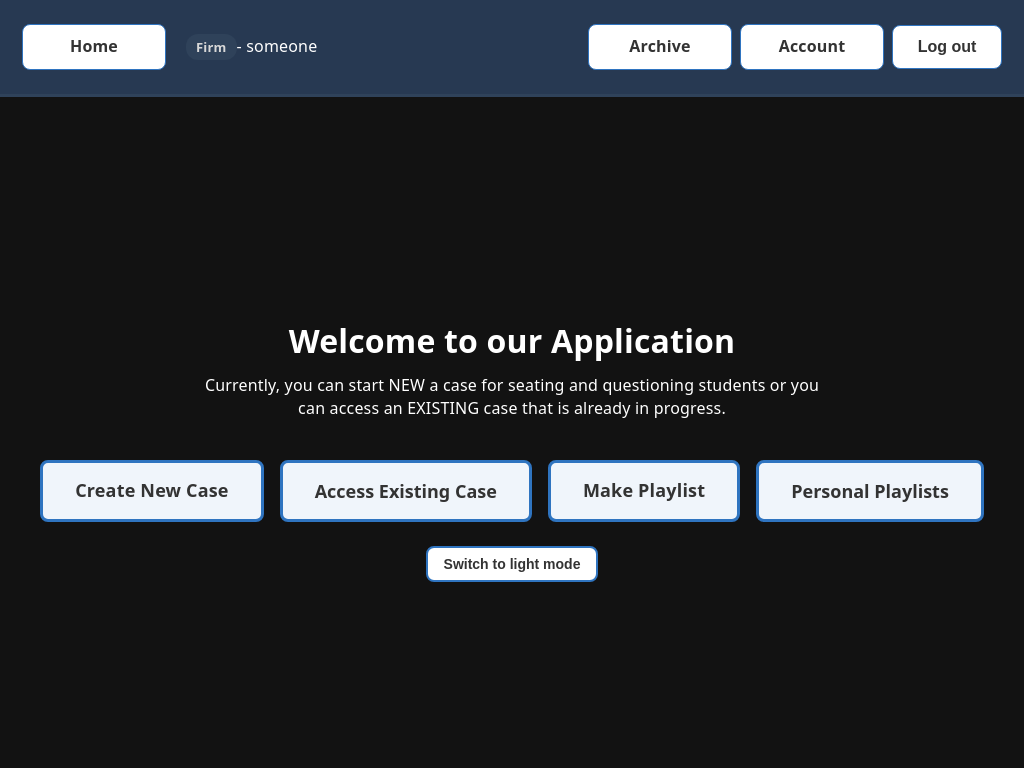
Scenario: DashboardScreen playlist edit and delete (spec 022) › keeps the warning open with the server message when the delete fails
Click the button "Personal Playlists": click(870, 491) [756,460,984,522]
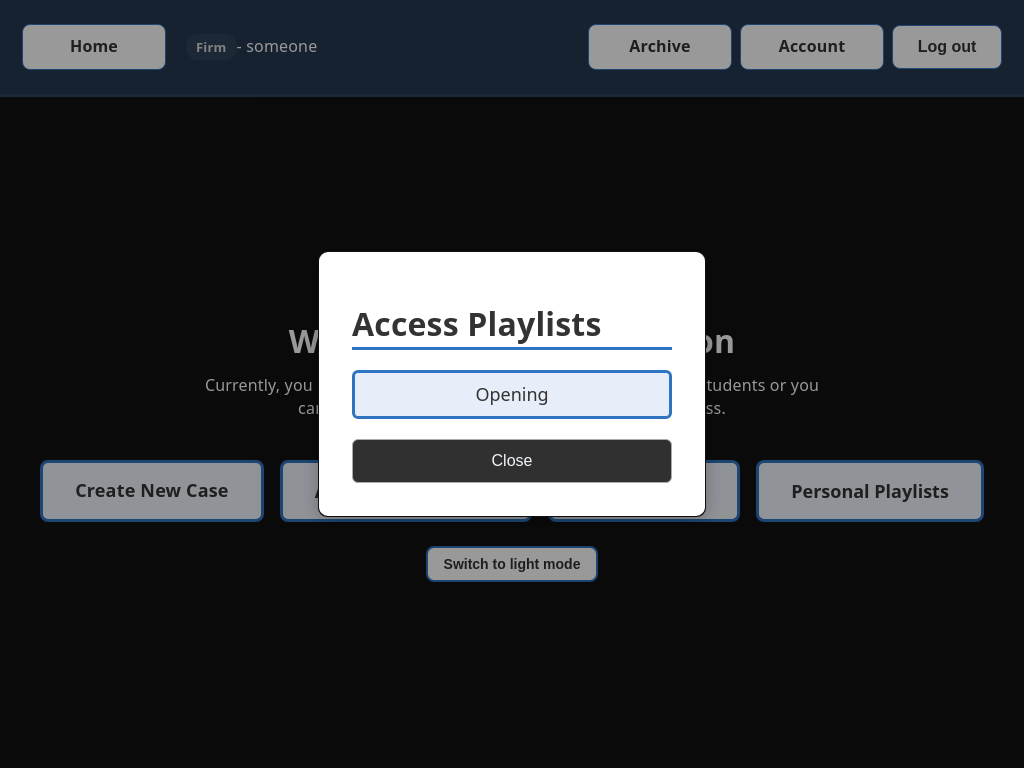
Click the button "Opening": click(512, 394) [352,370,672,419]
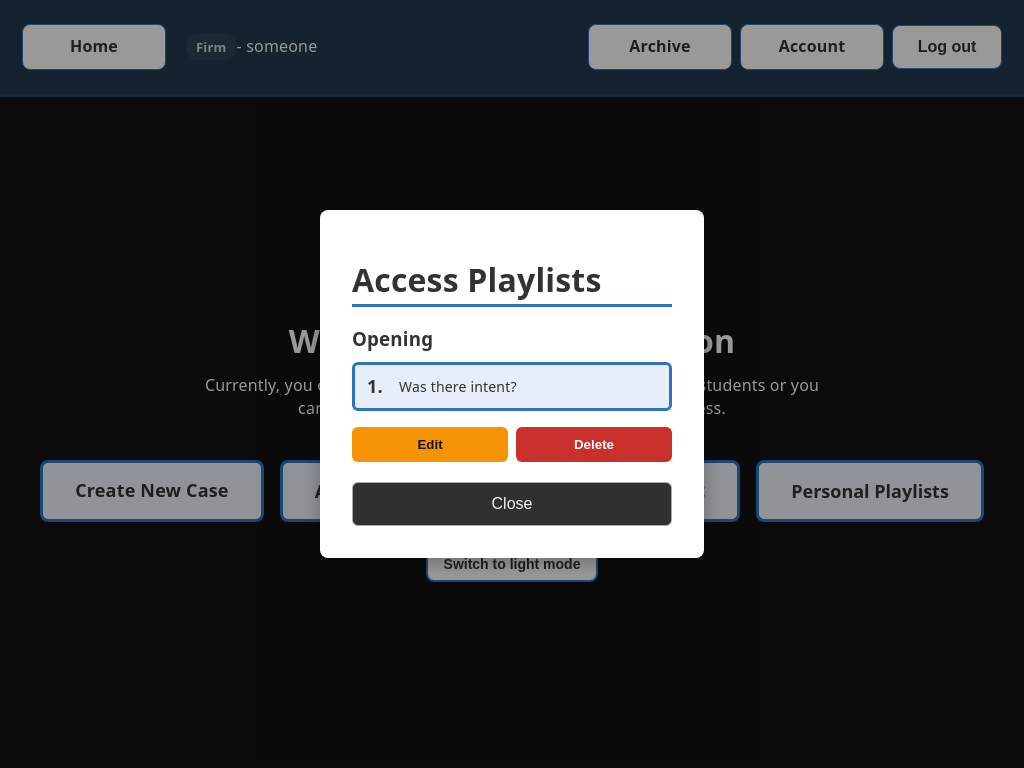
Expected: the text "Was there intent?" is shown, [399,377,517,396]
Click the button "Delete": click(594, 445) [516,427,672,462]
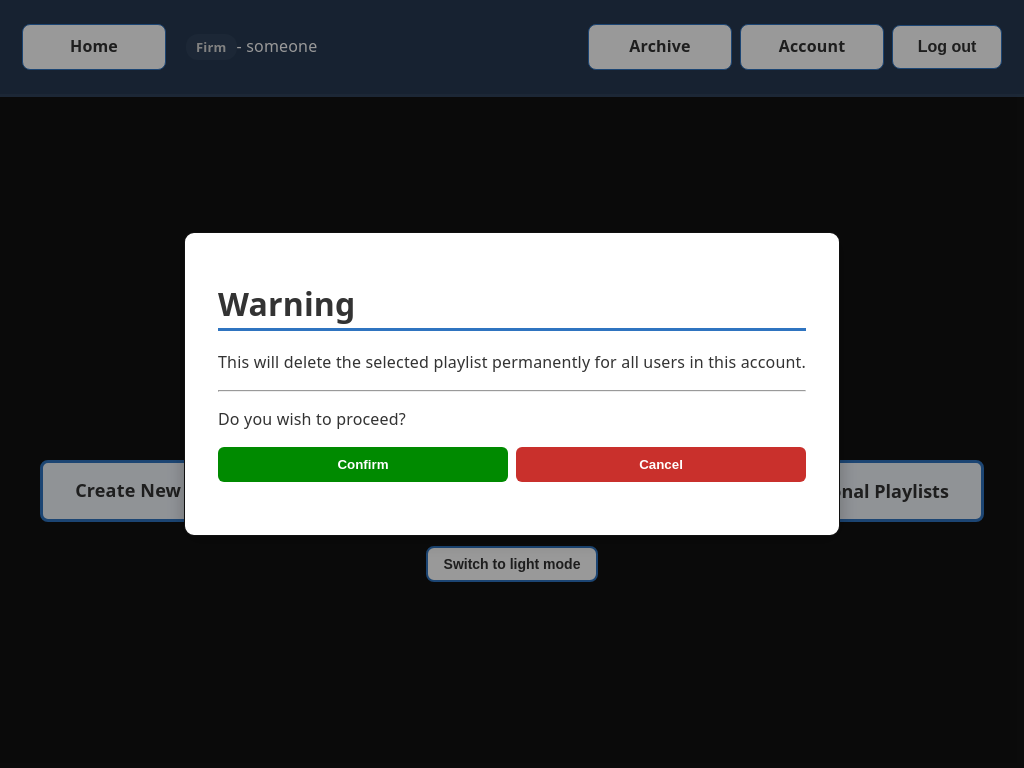
Click the button "Confirm": click(363, 465) [218,447,508,482]
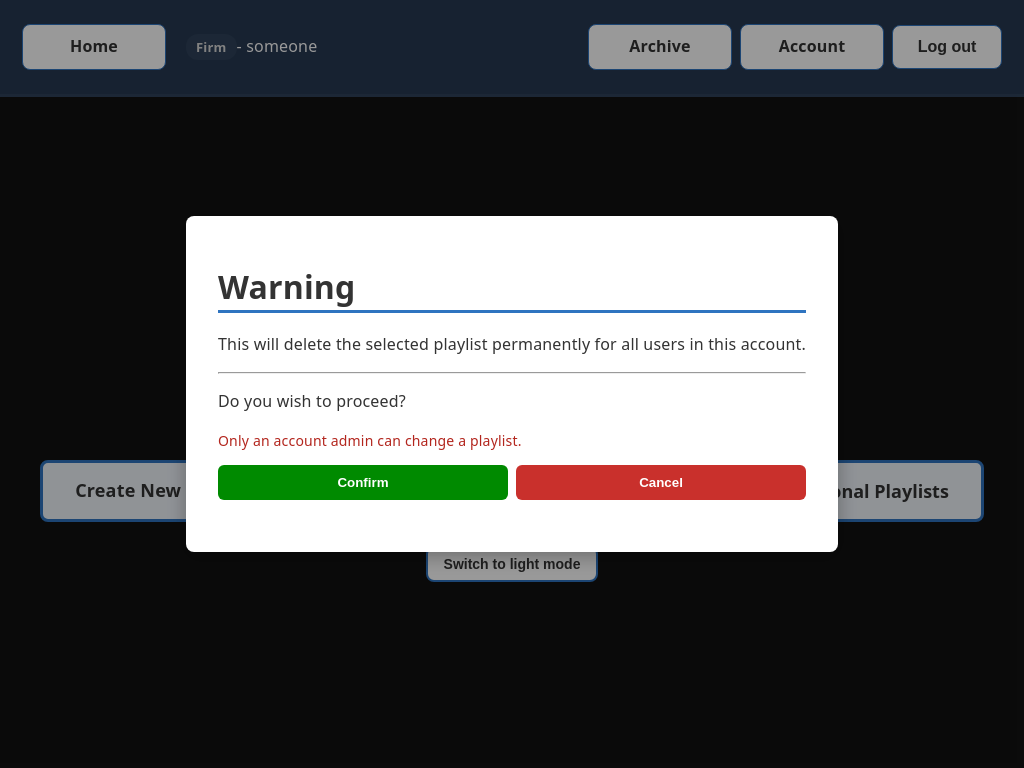
Expected: the button "Confirm" is enabled, [218,465,508,500]
Expected: the message reads "Only an account admin can change a playlist.", [218,432,522,450]
